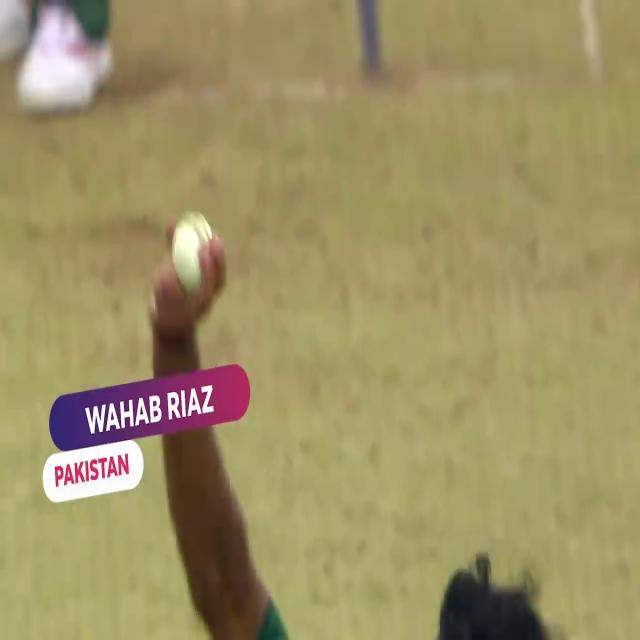ball: (143, 192, 239, 345)
